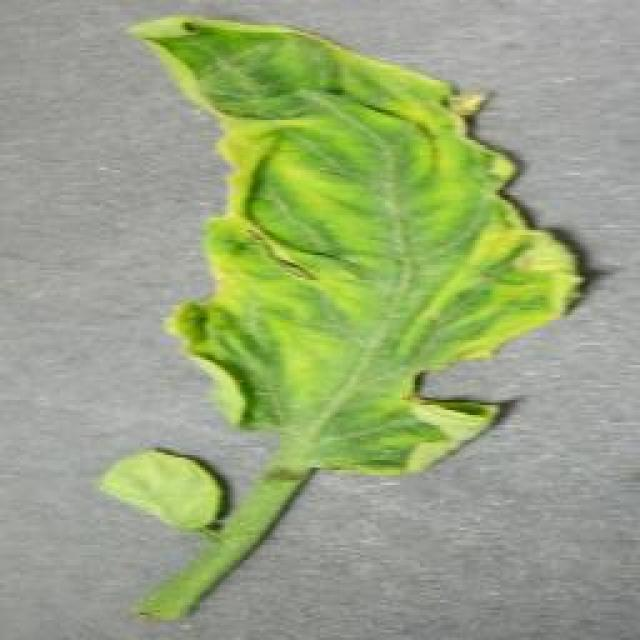Tom_Yellow_Leaf_Curl_Virus: (167, 24, 538, 424)
